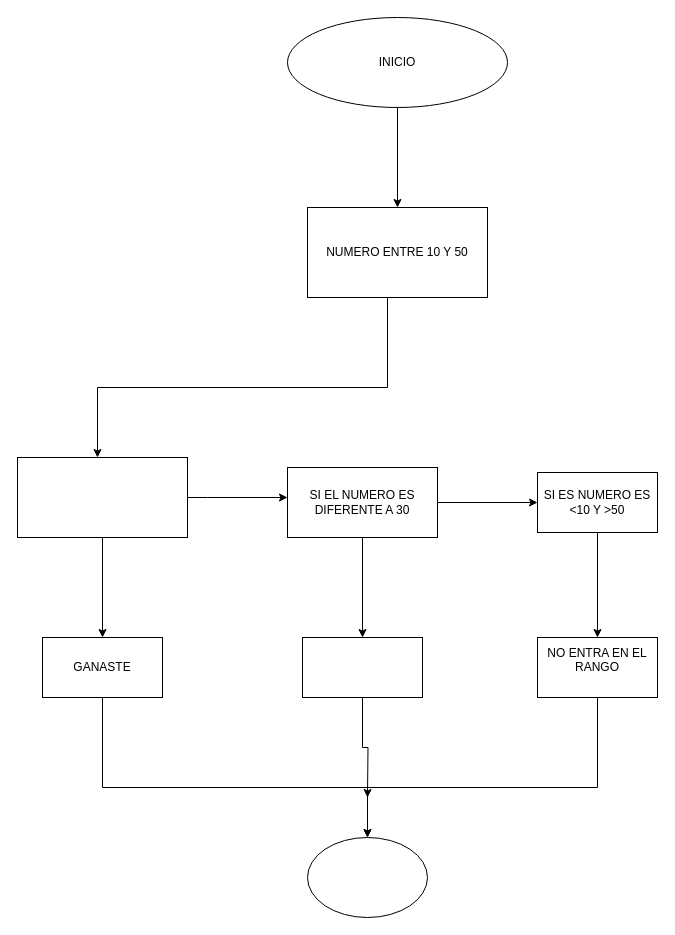
This 675x935 diagram has some shape labels left out. The shapes that lost their labels are listed below. From the top down, each one's box as (x1, y1, x2, y2) in pixels, then its label:
(16, 456, 188, 538): SI EL NUMERO ES = 30
(302, 636, 422, 698): PERDISTE
(306, 836, 428, 918): FIN
